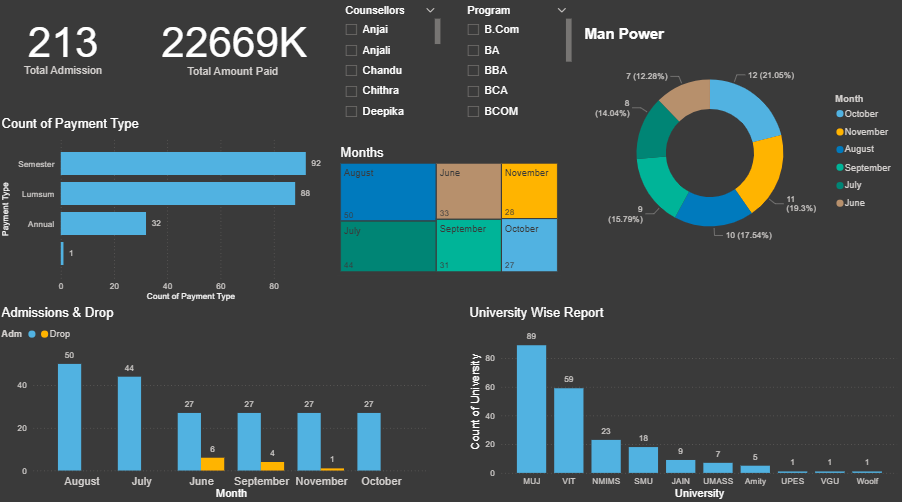

The page's visual inventory and layout, read from the dashboard file:
{"tool":"powerbi","page":{"name":"Admission Report","canvas":[1280,720],"ordinal":1},"visuals":[{"type":"clusteredColumnChart","title":"Admissions & Drop ","fields":{"Category":["Table (3).Month"],"Y":["CountNonNull(Table (3).Candidate)"],"Series":["Table (3).Drop"]},"box":[0,440.2,616.2,279.9],"z":0},{"type":"clusteredColumnChart","title":"University Wise  Report","fields":{"Category":["Table (3).University"],"Y":["CountNonNull(Table (3).University)"]},"box":[663.8,440.2,616.2,279.9],"z":1000},{"type":"card","fields":{"Values":["CountNonNull(Table (3).Candidate)"]},"box":[0,0,184.8,142.8],"z":2000},{"type":"treemap","title":"Months","fields":{"Details":["Table (3).Month"],"Values":["CountNonNull(Table (3).Month)"]},"box":[480.4,213.3,317.5,184.8],"z":3000},{"type":"donutChart","title":"Man Power","fields":{"Category":["Table (3).Month"],"Y":["Sum(Table (3).Man Power)"]},"box":[826.3,45.4,453.5,335.9],"z":4000},{"type":"slicer","fields":{"Values":["Table (3).Counsellors"]},"box":[478.7,10.1,152.9,176.4],"z":5000},{"type":"card","fields":{"Values":["Sum(Table (3).Amount Paid)"]},"box":[179.6,0,309.9,144.4],"z":6000},{"type":"slicer","fields":{"Values":["Table (3).Program"]},"box":[651.8,10.1,166.3,176.4],"z":7000},{"type":"barChart","title":"Count of Payment Type","fields":{"Y":["CountNonNull(Table (3).Payment Type)"],"Category":["Table (3).Payment Type"]},"box":[0,172.5,470.1,267.6],"z":8000}]}

Visuals, with their boxes in screenshot pixels (x1, y1, x2, y2), scaled from the page's 1280x720 canvas onto the 902x502 screenshot:
"Admissions & Drop " clusteredColumnChart: (x1=0, y1=307, x2=434, y2=501)
"University Wise  Report" clusteredColumnChart: (x1=468, y1=307, x2=901, y2=501)
card - CountNonNull(Table (3).Candidate): (x1=0, y1=0, x2=130, y2=100)
"Months" treemap: (x1=339, y1=149, x2=562, y2=278)
"Man Power" donutChart: (x1=582, y1=32, x2=901, y2=266)
slicer - Table (3).Counsellors: (x1=337, y1=7, x2=445, y2=130)
card - Sum(Table (3).Amount Paid): (x1=127, y1=0, x2=345, y2=101)
slicer - Table (3).Program: (x1=459, y1=7, x2=577, y2=130)
"Count of Payment Type" barChart: (x1=0, y1=120, x2=331, y2=307)
